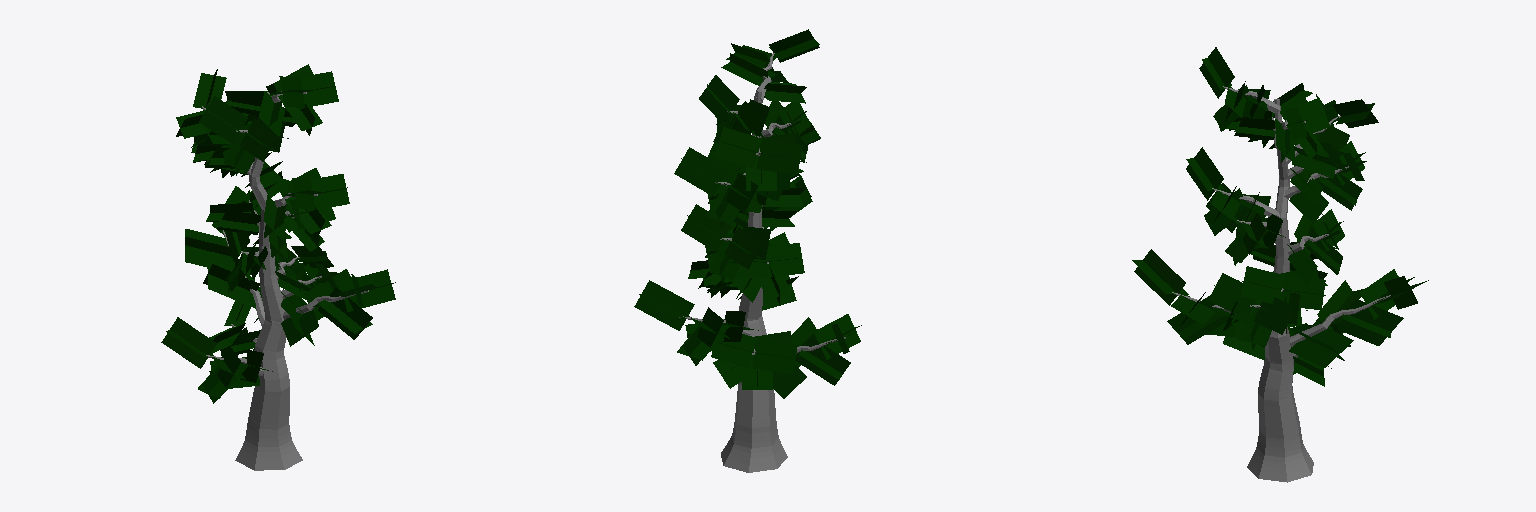
Rendered from TreeMedium.obj.
The picture shows the model from 3 angles: view 1: azimuth 30°, elevation 25°; view 2: azimuth 150°, elevation 25°; view 3: azimuth 270°, elevation 25°; orthographic projection.
Parts seen in each view (by area): view 1: TreeMiddle; view 2: TreeMiddle; view 3: TreeMiddle.
Boxes of the visible parts, box(x1,y1,x2,y2) form: TreeMiddle: box(161, 64, 395, 470); TreeMiddle: box(634, 29, 861, 472); TreeMiddle: box(1132, 47, 1428, 482).
Size of the model in its own units: 7.97 by 17.29 by 11.4.